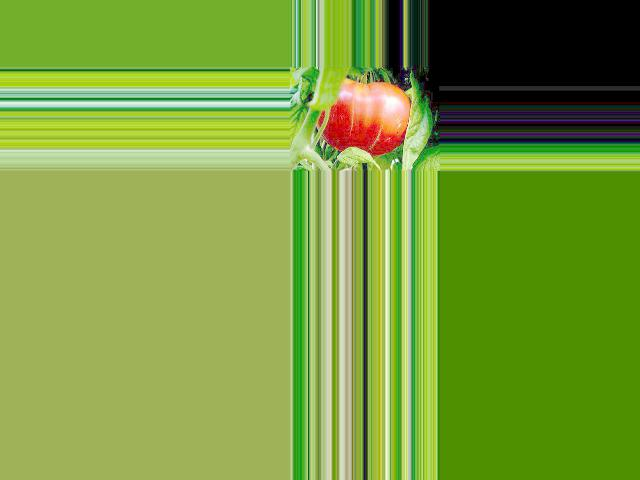tomato: (316, 78, 411, 156)
